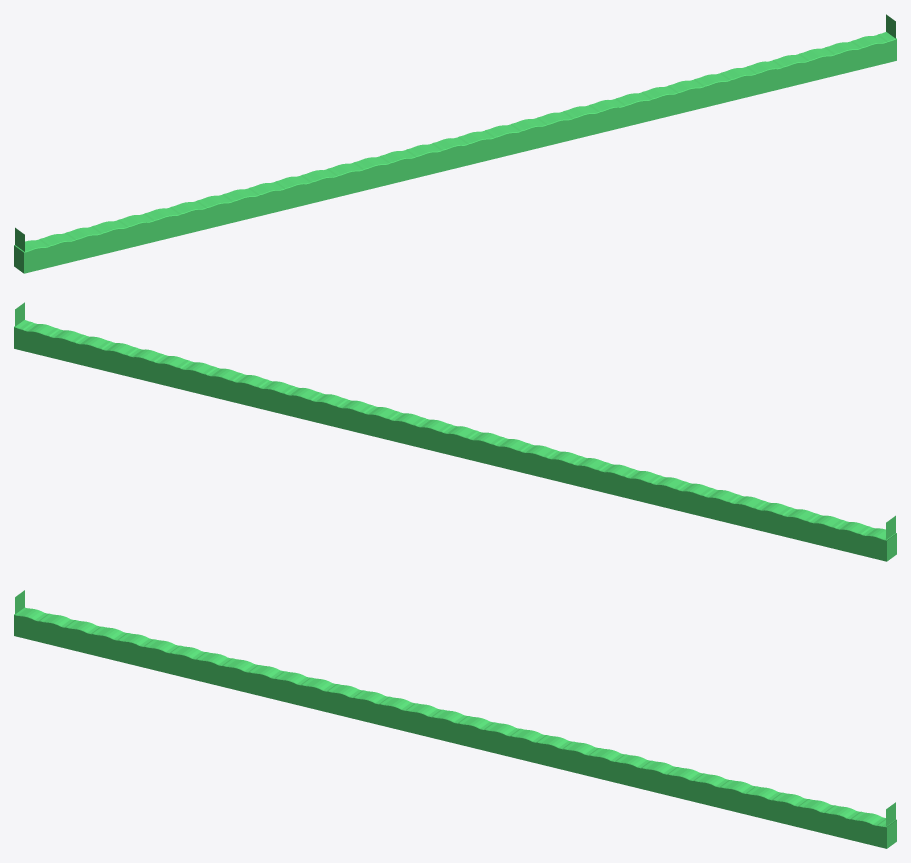
The model's file is SonicEXE_Hill_Collision_v2.glb.
3 views of the same model, one above another, from view 1: azimuth 30°, elevation 25°; view 2: azimuth 150°, elevation 25°; view 3: azimuth 330°, elevation 25° (orthographic).
Visible parts, largest first — view 1: Hill_Sector_0, Hill_Sector_2, Hill_Sector_3, Hill_Sector_10, Hill_Sector_11, Hill_Sector_12, Hill_Sector_4, Hill_Sector_13, Hill_Sector_5, Hill_Sector_9, Hill_Sector_1, Hill_Sector_14 (+4 smaller); view 2: Hill_Sector_0, Hill_Sector_2, Hill_Sector_3, Hill_Sector_10, Hill_Sector_11, Hill_Sector_12, Hill_Sector_4, Hill_Sector_13, Hill_Sector_5, Hill_Sector_9, Hill_Sector_1, Hill_Sector_14 (+4 smaller); view 3: Hill_Sector_0, Hill_Sector_5, Hill_Sector_4, Hill_Sector_12, Hill_Sector_3, Hill_Sector_11, Hill_Sector_10, Hill_Sector_2, Hill_Sector_9, Hill_Sector_13, Hill_Sector_6, Hill_Sector_8 (+4 smaller).
Part boxes in pixels (x1=…): Hill_Sector_0: x1=14, y1=227, x2=79, y2=273; Hill_Sector_2: x1=126, y1=203, x2=191, y2=246; Hill_Sector_3: x1=182, y1=189, x2=247, y2=232; Hill_Sector_10: x1=573, y1=94, x2=638, y2=137; Hill_Sector_11: x1=629, y1=81, x2=694, y2=123; Hill_Sector_12: x1=685, y1=68, x2=750, y2=109; Hill_Sector_4: x1=238, y1=176, x2=303, y2=218; Hill_Sector_13: x1=741, y1=54, x2=806, y2=96; Hill_Sector_5: x1=294, y1=163, x2=359, y2=205; Hill_Sector_9: x1=517, y1=108, x2=582, y2=150; Hill_Sector_1: x1=70, y1=217, x2=135, y2=259; Hill_Sector_14: x1=797, y1=40, x2=861, y2=82; Hill_Sector_0: x1=831, y1=515, x2=896, y2=561; Hill_Sector_2: x1=719, y1=491, x2=784, y2=534; Hill_Sector_3: x1=663, y1=477, x2=728, y2=520; Hill_Sector_10: x1=272, y1=382, x2=337, y2=425; Hill_Sector_11: x1=216, y1=369, x2=281, y2=411; Hill_Sector_12: x1=160, y1=356, x2=225, y2=397; Hill_Sector_4: x1=607, y1=464, x2=672, y2=506; Hill_Sector_13: x1=104, y1=342, x2=169, y2=384; Hill_Sector_5: x1=551, y1=451, x2=616, y2=493; Hill_Sector_9: x1=328, y1=396, x2=393, y2=438; Hill_Sector_1: x1=775, y1=505, x2=840, y2=547; Hill_Sector_14: x1=49, y1=328, x2=113, y2=370; Hill_Sector_0: x1=14, y1=590, x2=78, y2=649; Hill_Sector_5: x1=293, y1=675, x2=358, y2=717; Hill_Sector_4: x1=237, y1=661, x2=302, y2=703; Hill_Sector_12: x1=684, y1=770, x2=749, y2=812; Hill_Sector_3: x1=181, y1=647, x2=246, y2=690; Hill_Sector_11: x1=628, y1=756, x2=693, y2=799; Hill_Sector_10: x1=572, y1=743, x2=637, y2=785; Hill_Sector_2: x1=125, y1=634, x2=190, y2=676; Hill_Sector_9: x1=516, y1=730, x2=581, y2=772; Hill_Sector_13: x1=740, y1=784, x2=805, y2=826; Hill_Sector_6: x1=349, y1=689, x2=414, y2=731; Hill_Sector_8: x1=461, y1=716, x2=526, y2=758.
Size of the model in its own units: 400 by 17.25 by 8.
